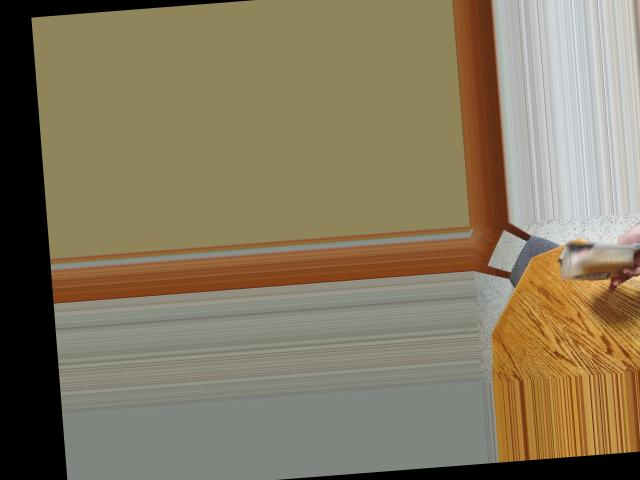cheese: (559, 230, 638, 291)
